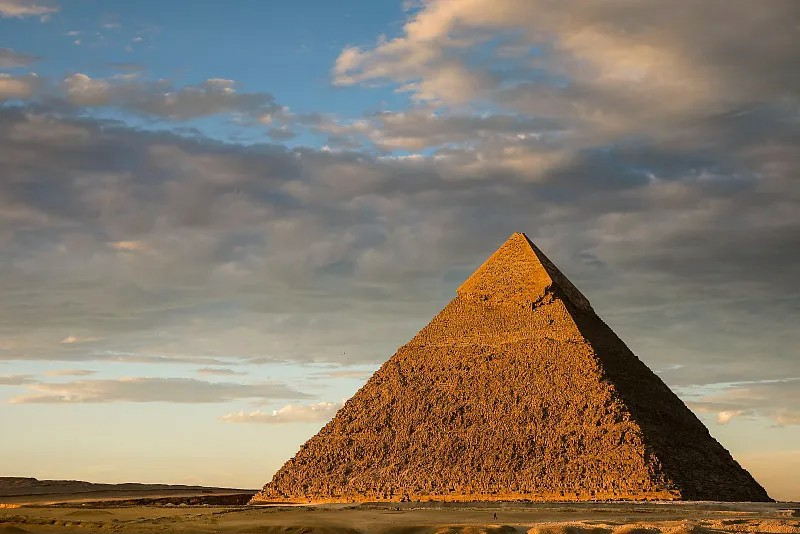Pyramid: (246, 231, 774, 500)
